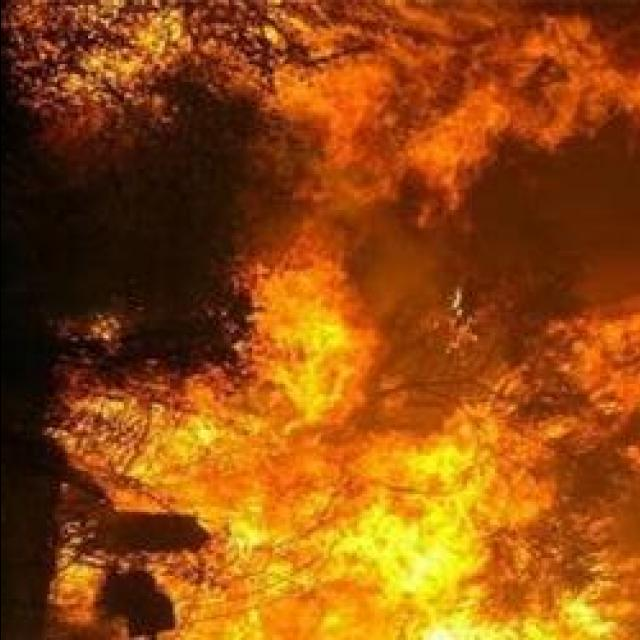fire: (270, 475, 376, 569), (509, 16, 609, 110), (408, 439, 522, 516), (378, 508, 472, 598), (153, 418, 255, 496), (272, 300, 362, 383), (208, 600, 372, 638), (582, 304, 640, 404), (404, 112, 490, 178), (298, 64, 388, 124), (274, 362, 338, 440), (438, 612, 614, 640), (222, 490, 284, 563), (51, 560, 95, 594)
smoke: (358, 217, 444, 315)
